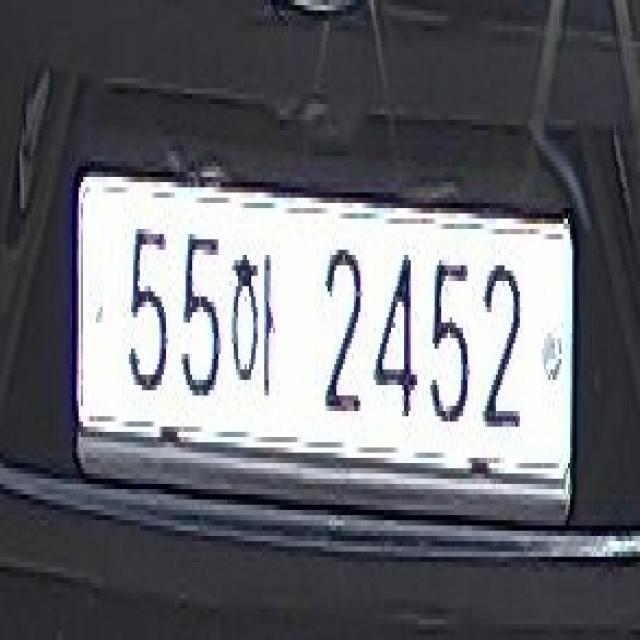2: (476, 250, 528, 440), (321, 228, 364, 418)
4: (371, 233, 419, 424)
5: (426, 238, 470, 428), (178, 219, 222, 398), (126, 216, 170, 394)
ha: (227, 220, 280, 403)
license_plate: (70, 144, 582, 545)
